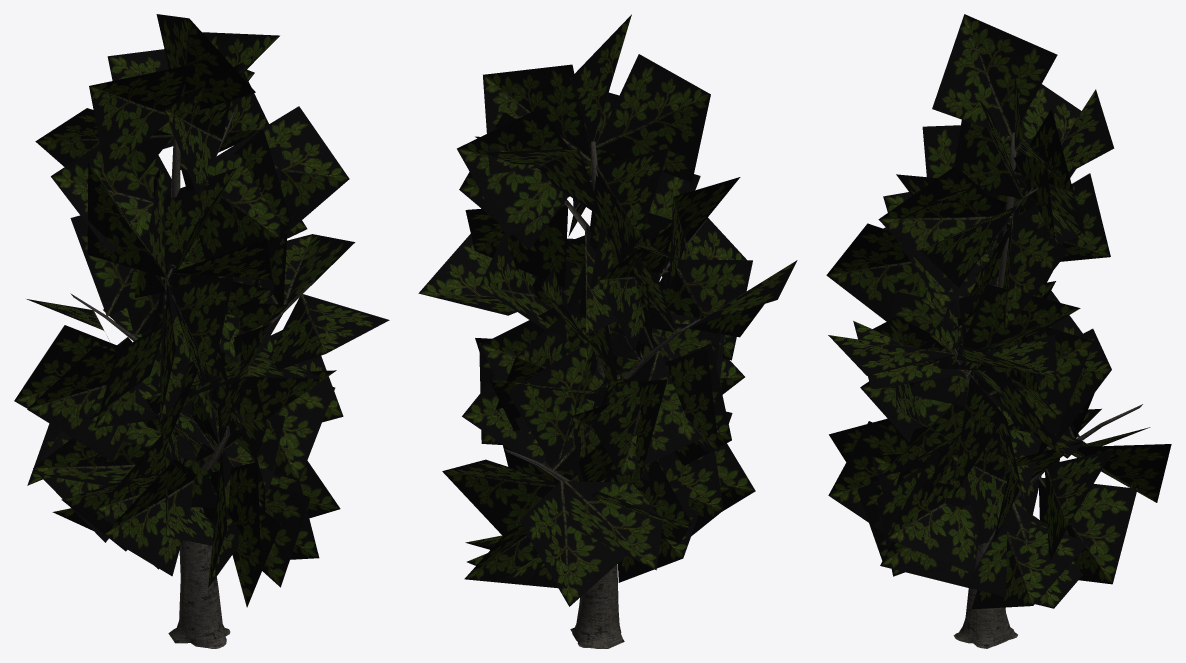
The model's file is tree_5.glb.
3 views of the same model, side by side, from view 1: azimuth 30°, elevation 25°; view 2: azimuth 150°, elevation 25°; view 3: azimuth 270°, elevation 25° (orthographic). The views are drawn at different scales.
Parts seen in each view (by area): view 1: tree_5_leaves, tree_5; view 2: tree_5_leaves, tree_5; view 3: tree_5_leaves, tree_5.
Boxes of the visible parts, bbox=[...] form: tree_5_leaves: bbox=[14, 14, 389, 607]; tree_5: bbox=[70, 109, 314, 648]; tree_5_leaves: bbox=[418, 14, 797, 606]; tree_5: bbox=[504, 141, 706, 648]; tree_5_leaves: bbox=[826, 14, 1171, 609]; tree_5: bbox=[953, 132, 1142, 648].
Bounding box in the file's own units: 3.74 × 6.91 × 3.54.
Materials: 2 (2 with a texture image).
